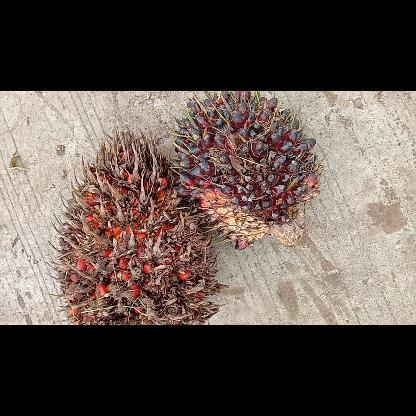TBS mentah: (170, 91, 324, 249)
Terlalu masak: (49, 124, 227, 324)
